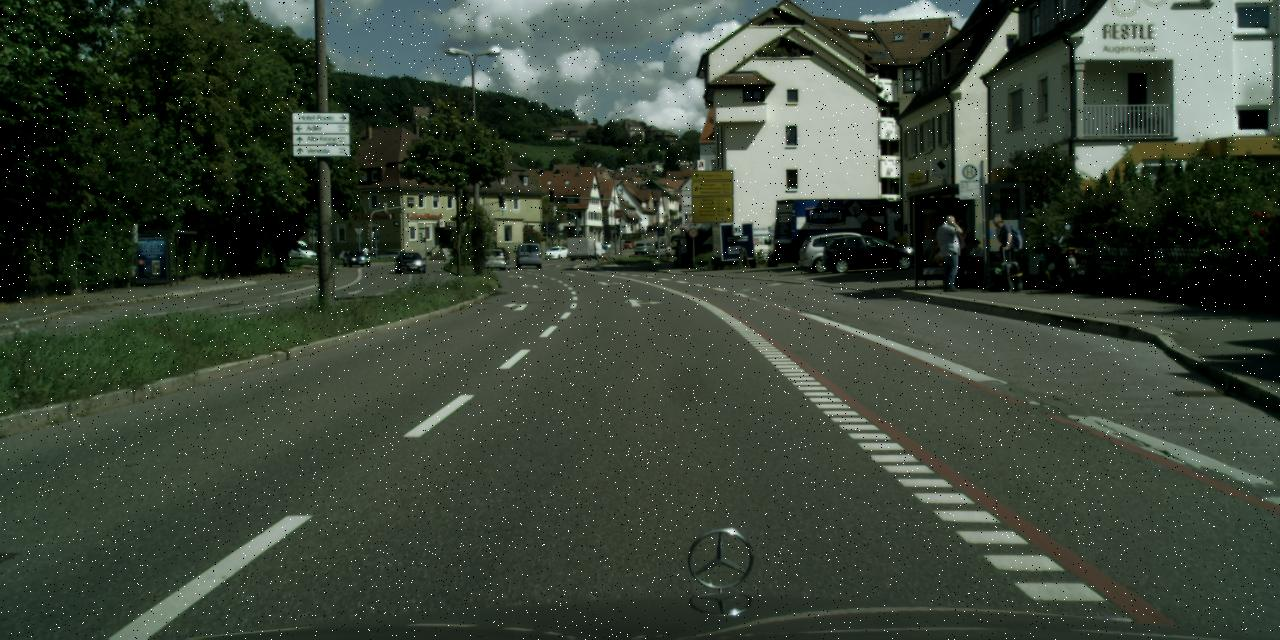ped: (934, 214, 965, 290), (989, 216, 1018, 288), (948, 222, 974, 287), (362, 247, 367, 259), (372, 246, 377, 258), (665, 246, 669, 256)
